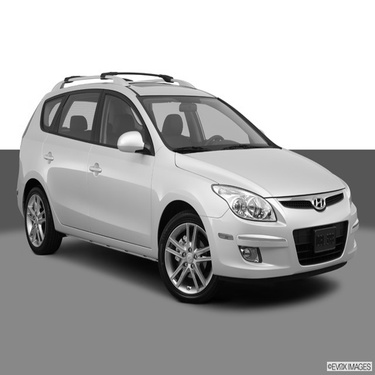car: (1, 54, 357, 293)
